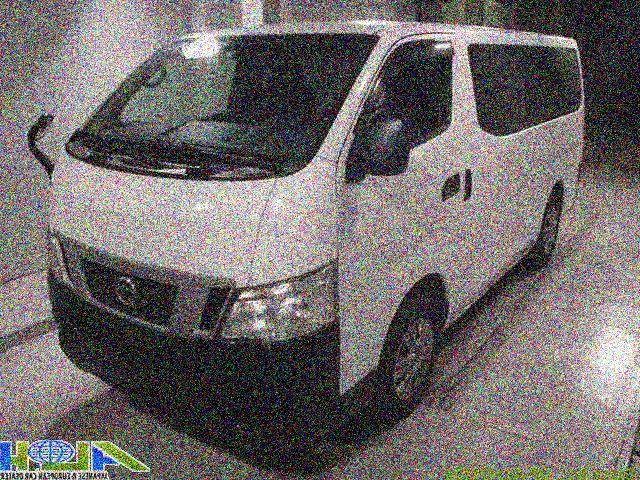van: (37, 24, 586, 435)
